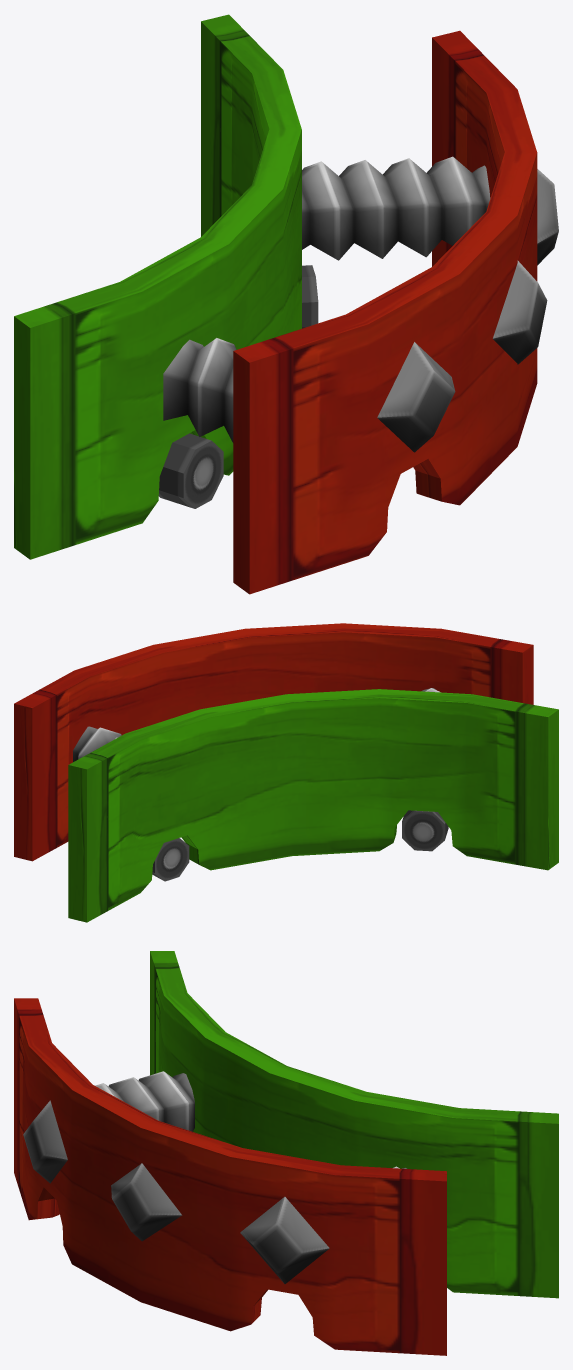
The model's file is dynamic_arched_fence_burger_02.fbx.
3 views of the same model, one above another, from view 1: azimuth 30°, elevation 25°; view 2: azimuth 150°, elevation 25°; view 3: azimuth 270°, elevation 25° (orthographic). The views are drawn at different scales.
Visible parts, largest first — view 1: dynamic_arched_fence_burger_02; view 2: dynamic_arched_fence_burger_02; view 3: dynamic_arched_fence_burger_02.
Part boxes in pixels (x1,y1,x2,y2): dynamic_arched_fence_burger_02: (14,14,558,594); dynamic_arched_fence_burger_02: (14,623,558,922); dynamic_arched_fence_burger_02: (14,951,558,1355).
Bounding box in the file's own units: 113 × 40 × 113.
